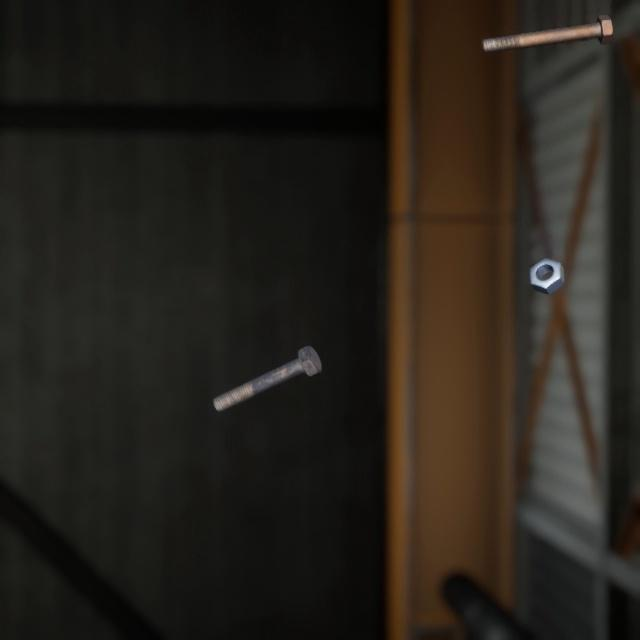bolt: (208, 321, 326, 396), (476, 1, 617, 48)
nut: (525, 236, 568, 282)
